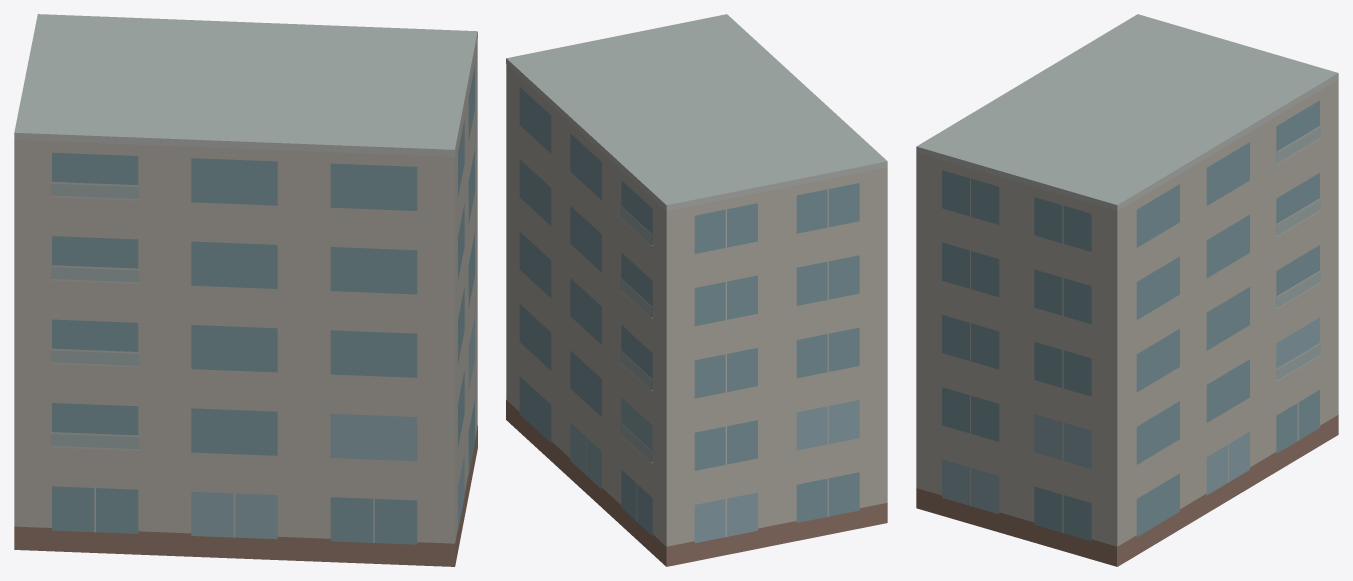
Rendered from survey-upis-32710537.glb.
The picture shows the model from 3 angles, left to right: view 1: azimuth 30°, elevation 25°; view 2: azimuth 150°, elevation 25°; view 3: azimuth 270°, elevation 25°; orthographic projection. The views are drawn at different scales.
Parts seen in each view (by area): view 1: survey-upis-32710537.tmp; view 2: survey-upis-32710537.tmp; view 3: survey-upis-32710537.tmp.
Part boxes in pixels (x1,y1,x2,y2): survey-upis-32710537.tmp: (14,14,477,566); survey-upis-32710537.tmp: (506,14,887,566); survey-upis-32710537.tmp: (916,14,1338,566).
Bounding box in the file's own units: 16.28 × 14.35 × 15.19.
